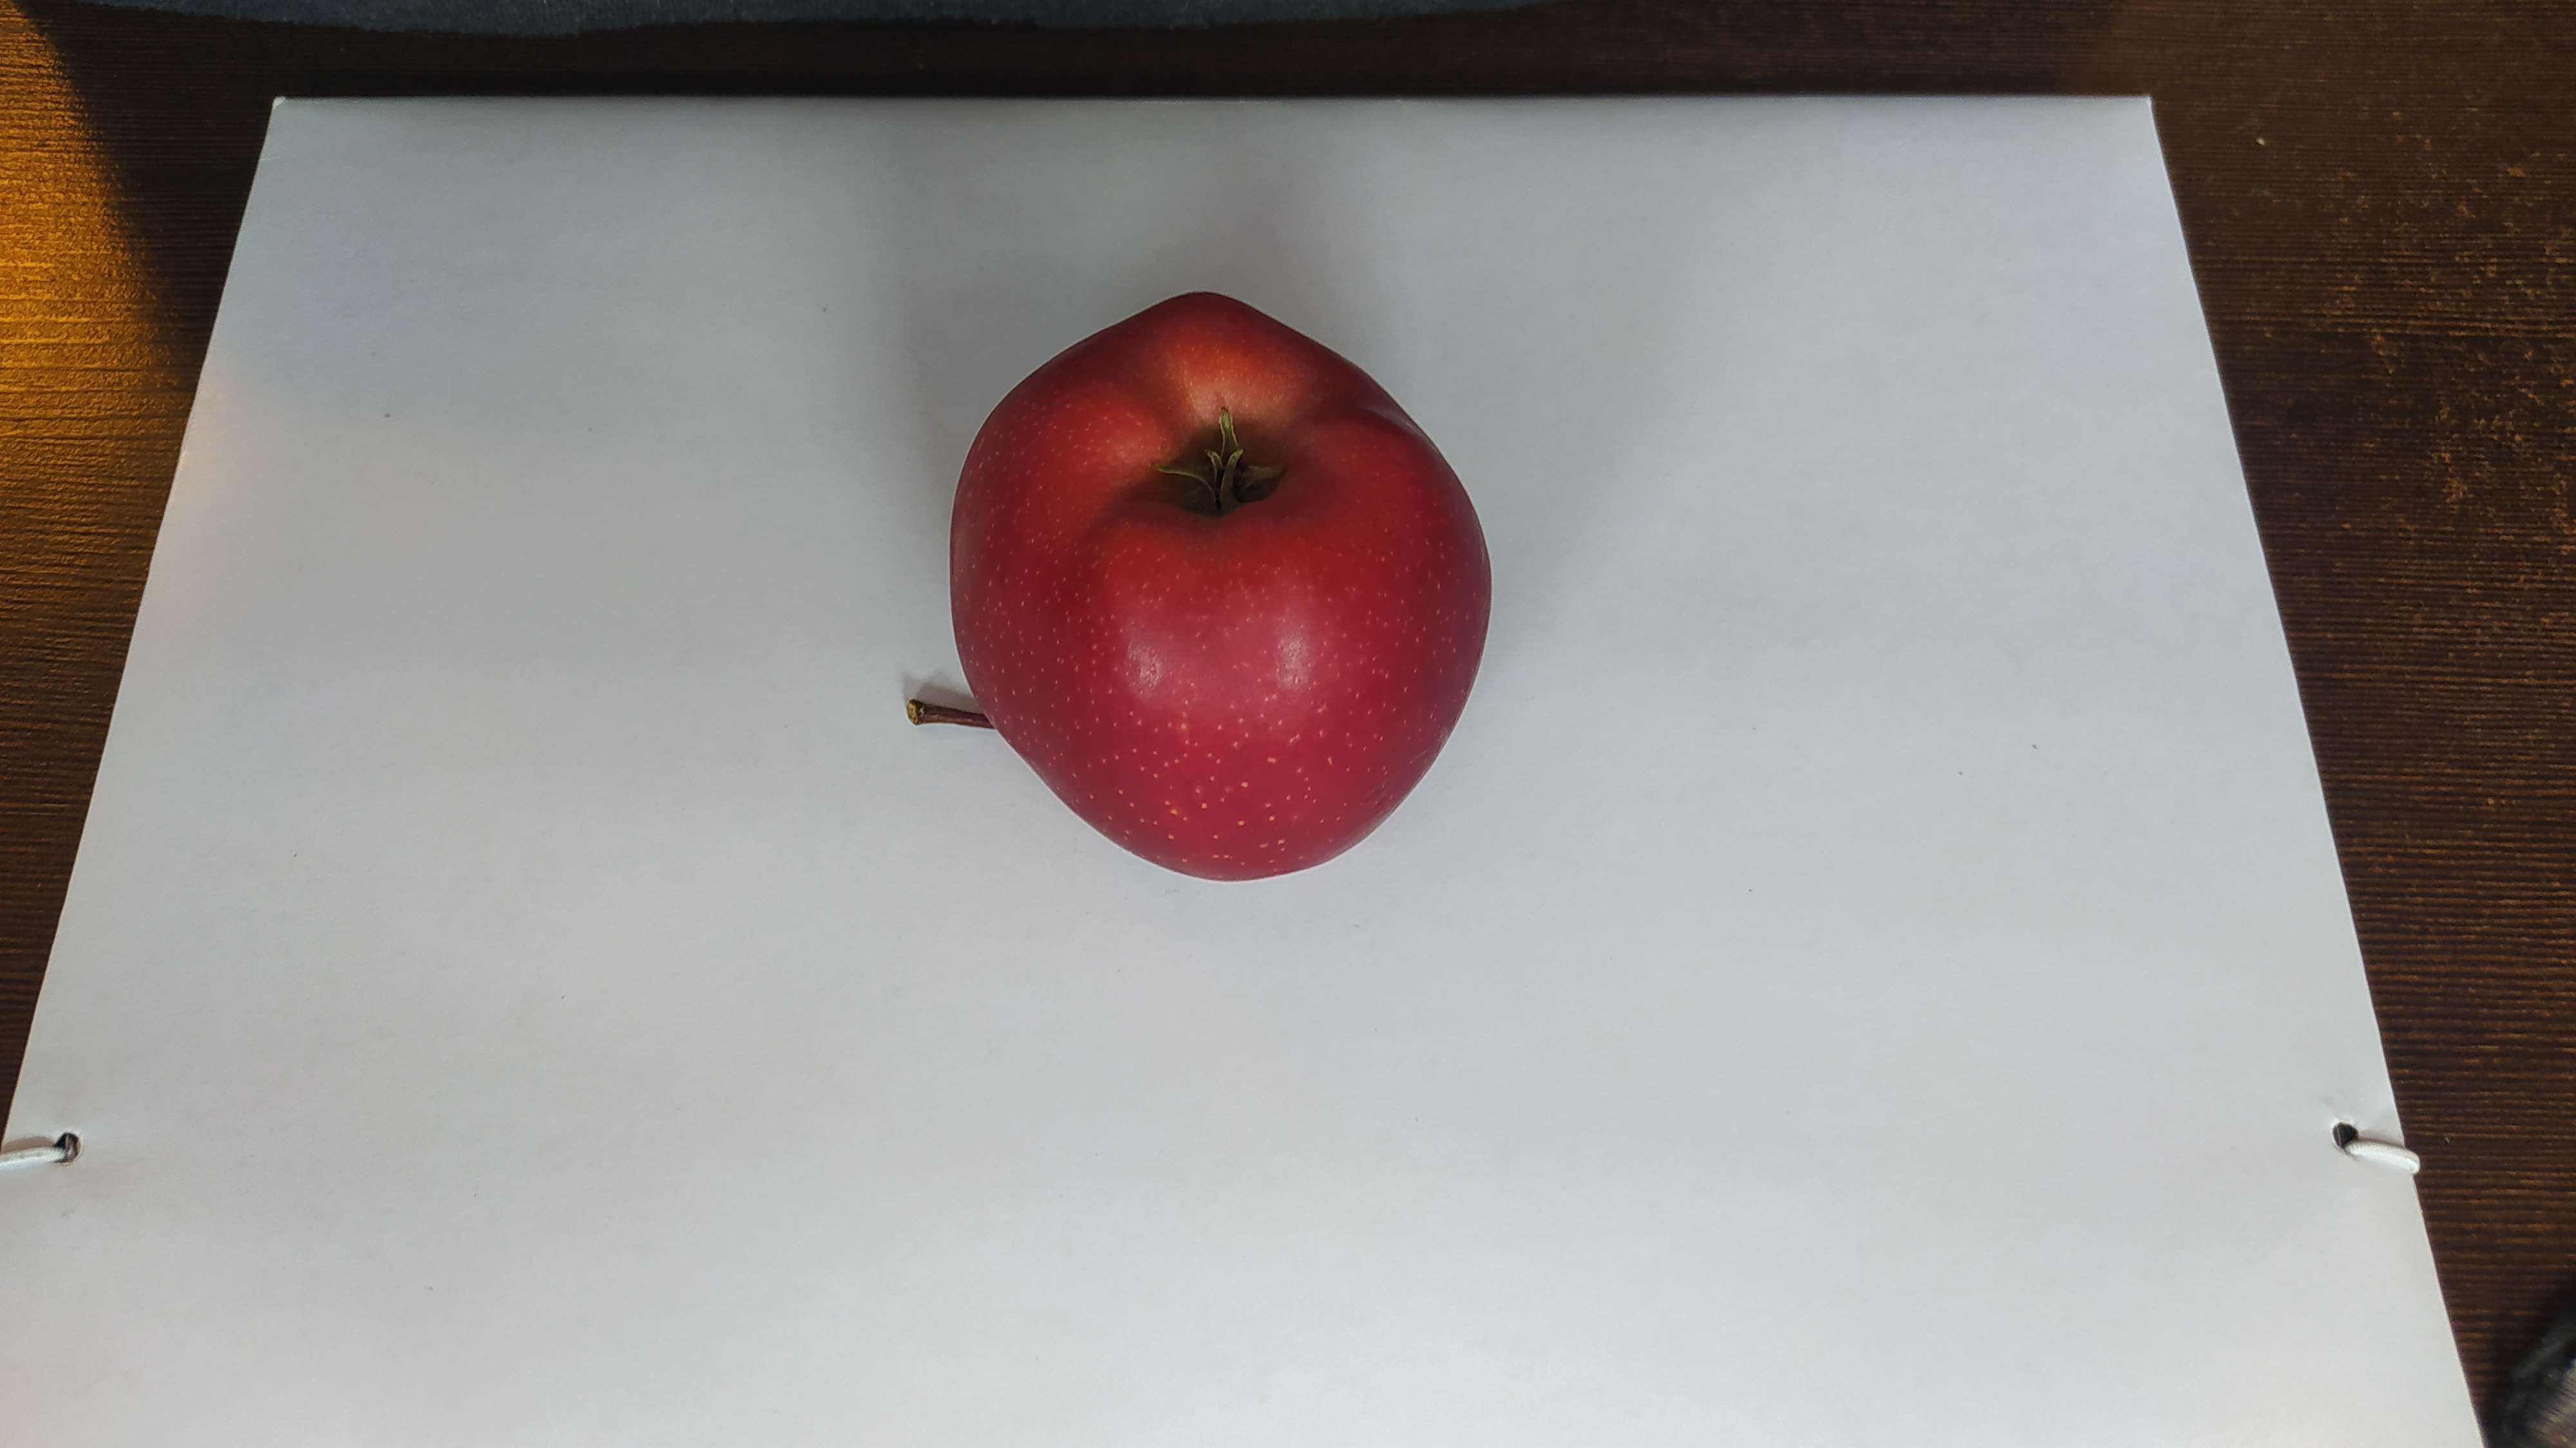apple: (947, 294, 1495, 882)
